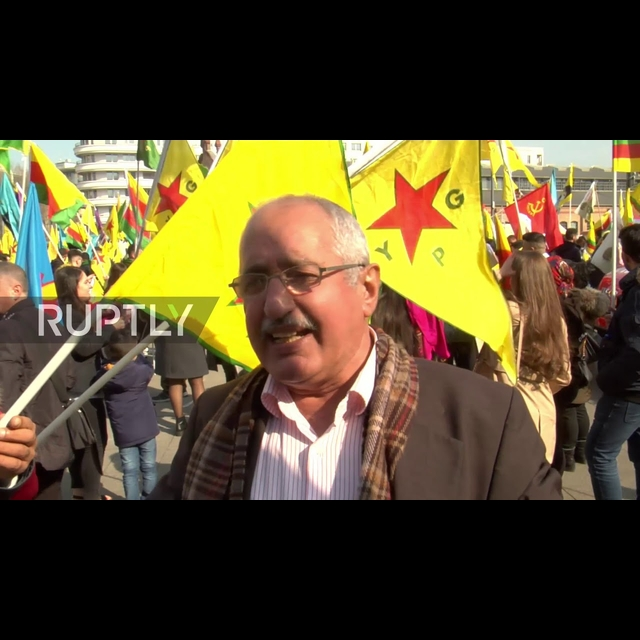MLKP: (526, 195, 551, 218)
YPG: (370, 165, 472, 273)
